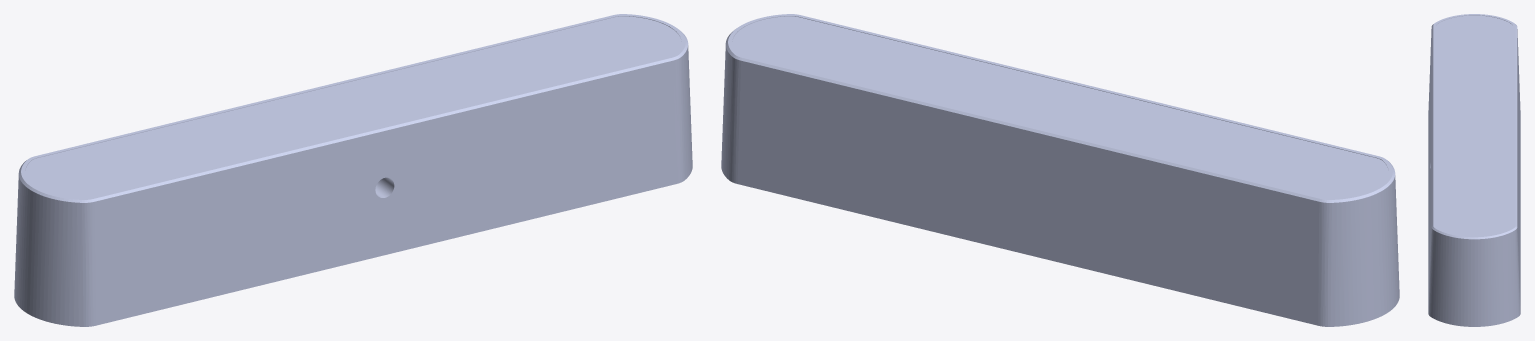
File: sensor.dae
The picture shows the model from 3 angles, left to right: view 1: azimuth 30°, elevation 25°; view 2: azimuth 150°, elevation 25°; view 3: azimuth 270°, elevation 25°; orthographic projection. The views are drawn at different scales.
Visible parts, largest first — view 1: 5e90448f61421814478d92e1; view 2: 5e90448f61421814478d92e1; view 3: 5e90448f61421814478d92e1.
Boxes of the visible parts, x1,y1,x2,y2 form: 5e90448f61421814478d92e1: (14,14,692,326); 5e90448f61421814478d92e1: (721,14,1399,326); 5e90448f61421814478d92e1: (1428,14,1520,326).
Size of the model in its own units: 0.175 by 0.03 by 0.0315.
